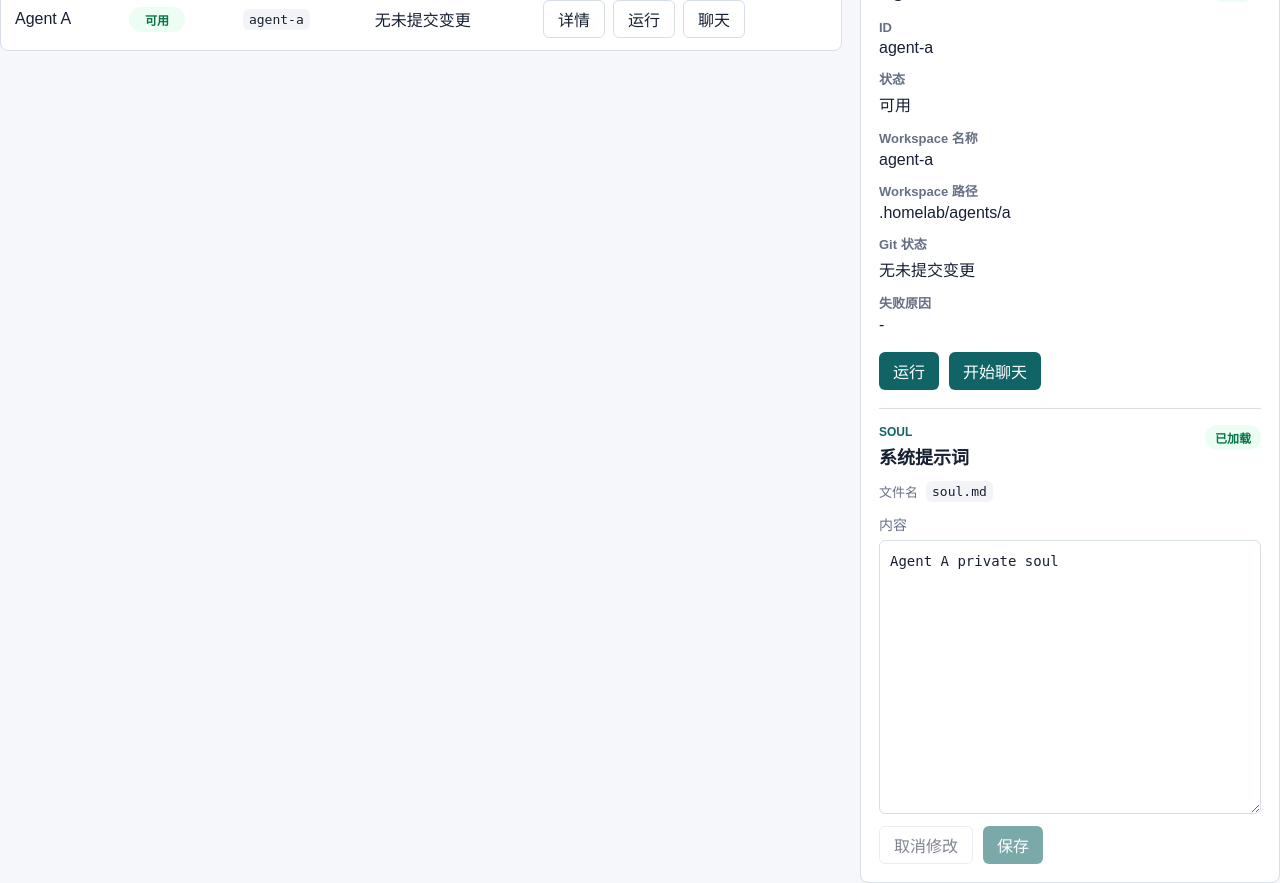
Scenario: AgentsPage › restores the latest loaded soul when cancelling edits
The image size is (1280, 883).
(page scrolled)
Step 1. Replace the text in the text box named "Soul 内容" with "Temporary soul" → (1070, 677), box [879,540,1261,814]
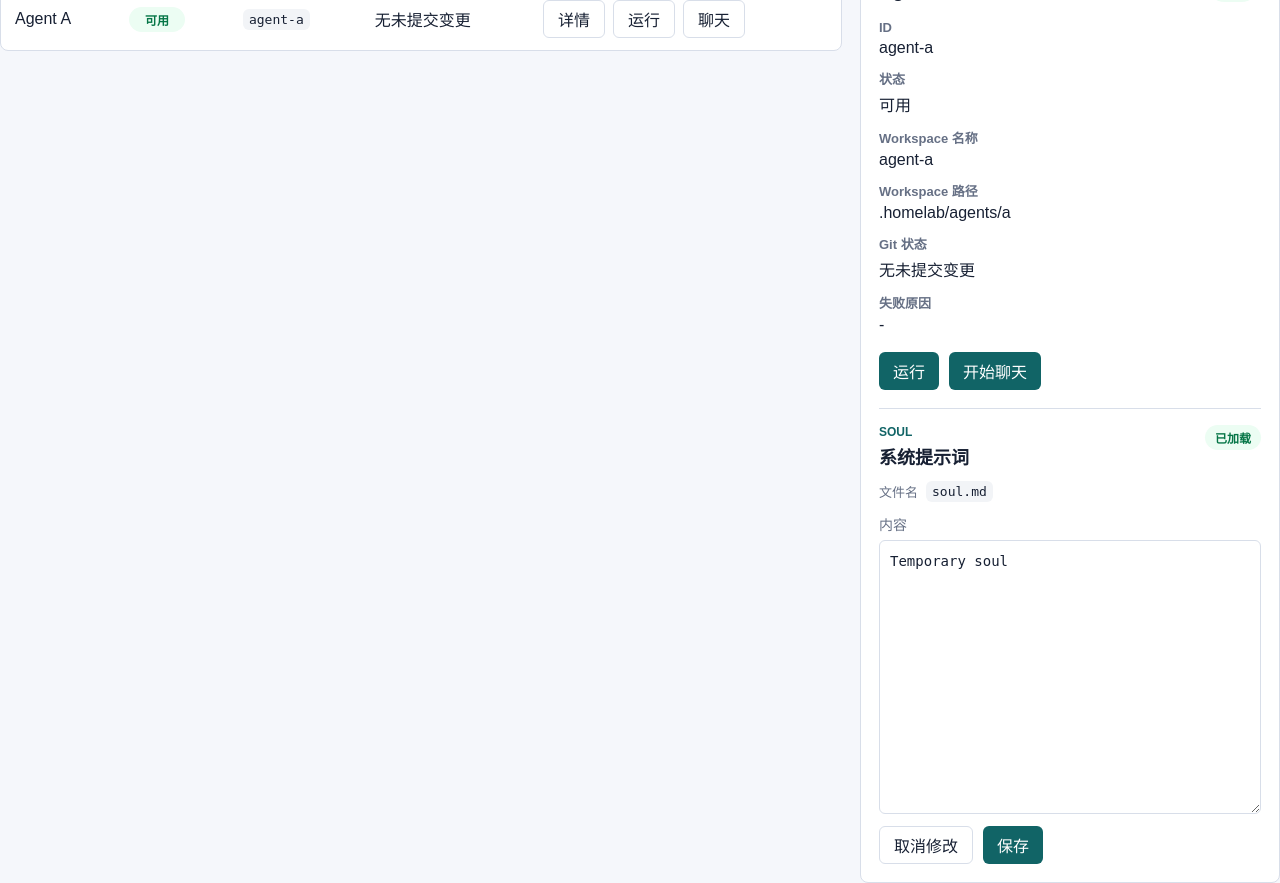
Result: the button "取消修改" is enabled
Step 2. Click the button "取消修改" → (926, 845), box [879,826,973,864]
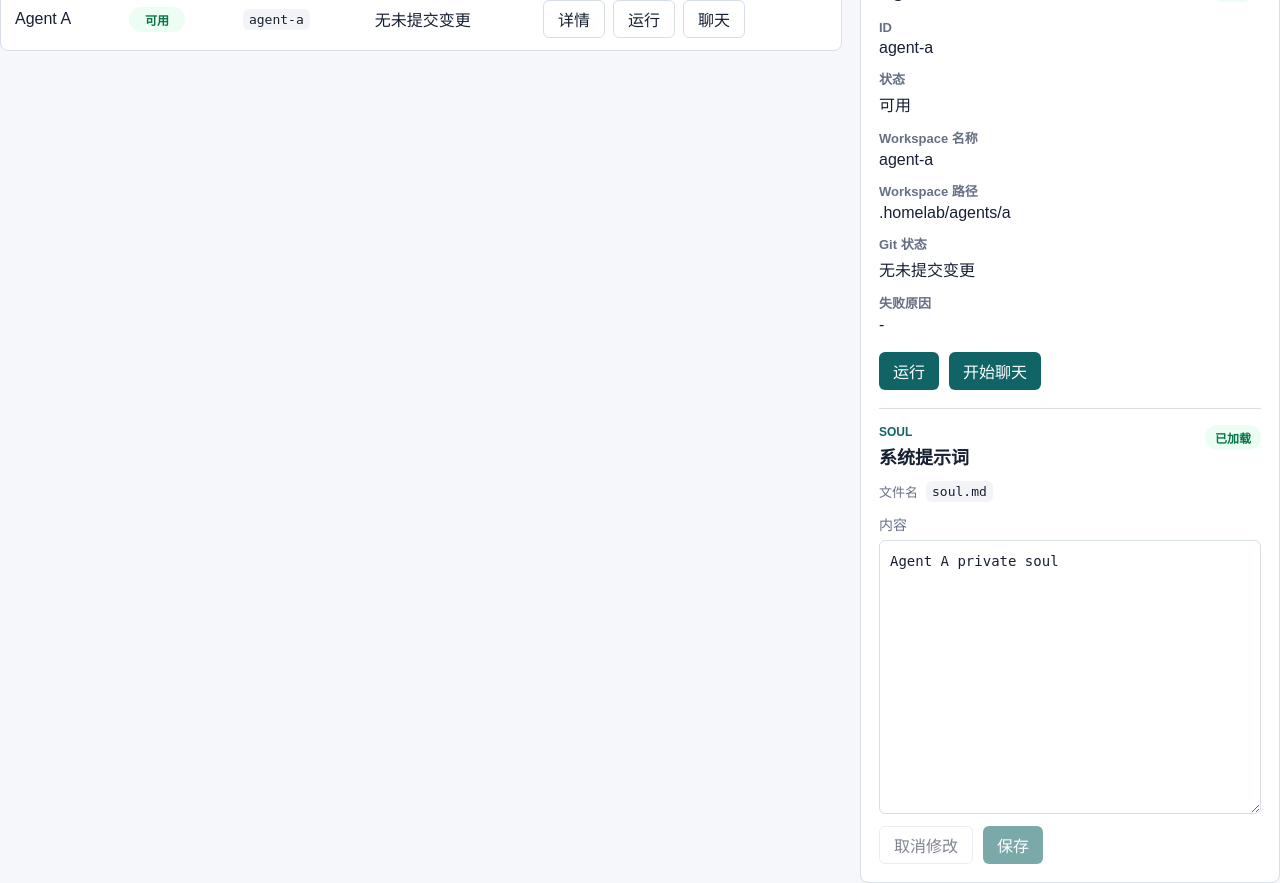
Result: the text box showing "Agent A private soul" is shown at [879,540,1261,814]
Result: the button "保存" is disabled at [983,826,1043,864]
